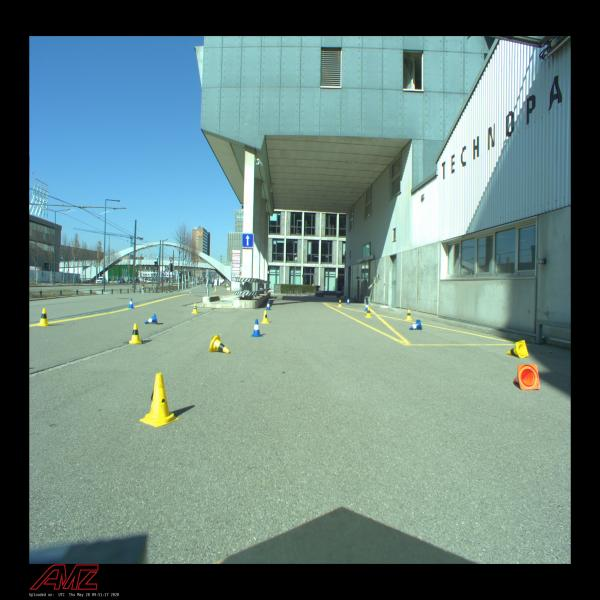blue_cone: (251, 319, 263, 337), (144, 314, 157, 324), (410, 320, 423, 330), (128, 298, 134, 309), (266, 301, 271, 310), (365, 302, 368, 311), (346, 298, 350, 304)
orange_cone: (514, 364, 540, 390)
yellow_cone: (140, 373, 179, 427), (209, 334, 230, 354), (507, 340, 529, 358), (129, 323, 142, 344), (37, 308, 50, 326), (261, 310, 270, 324), (191, 303, 199, 314), (405, 309, 412, 321), (365, 307, 372, 318), (338, 300, 342, 307)
